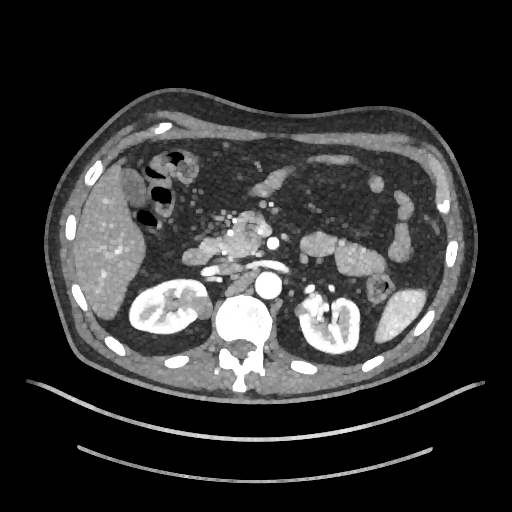Lesion: (183, 292, 215, 323)
